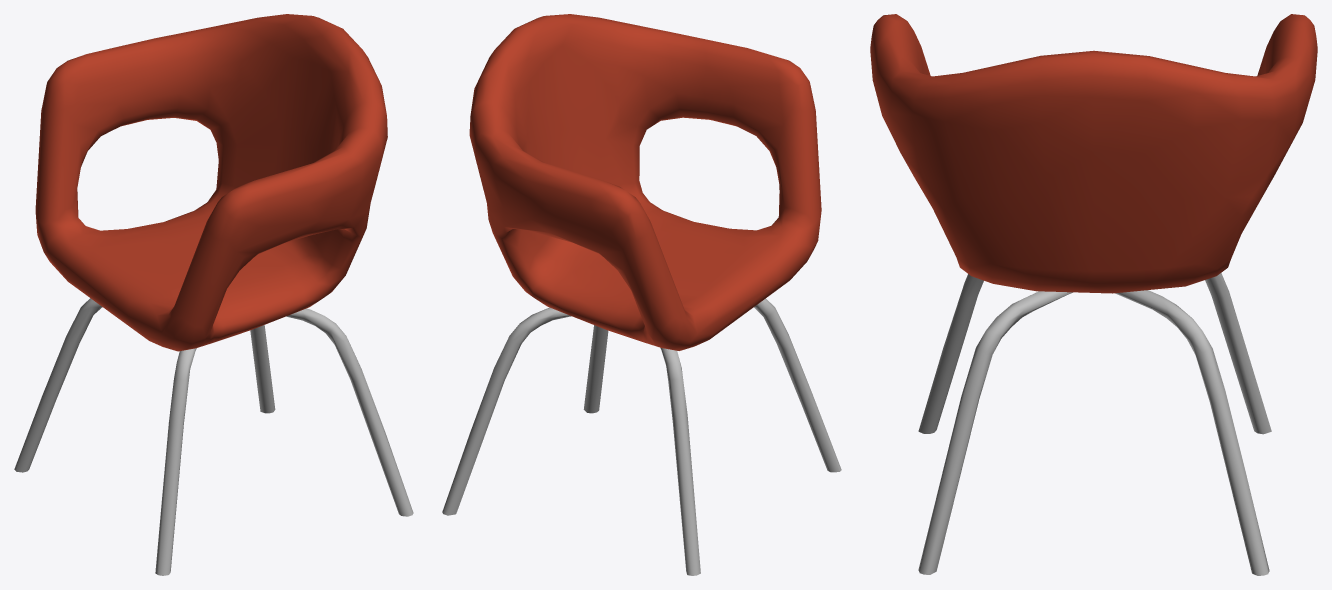
Rendered from chair_07_red.fbx.
3 views of the same model, side by side, from view 1: azimuth 30°, elevation 25°; view 2: azimuth 150°, elevation 25°; view 3: azimuth 270°, elevation 25° (orthographic). The views are drawn at different scales.
Visible parts, largest first — view 1: chair_07_red; view 2: chair_07_red; view 3: chair_07_red.
Part boxes in pixels (x1,y1,x2,y2): chair_07_red: [14, 14, 413, 575]; chair_07_red: [442, 14, 841, 575]; chair_07_red: [870, 14, 1317, 575].
Bounding box in the file's own units: 51.53 × 81.16 × 63.67.
Materials: 2 (2 with a texture image).
